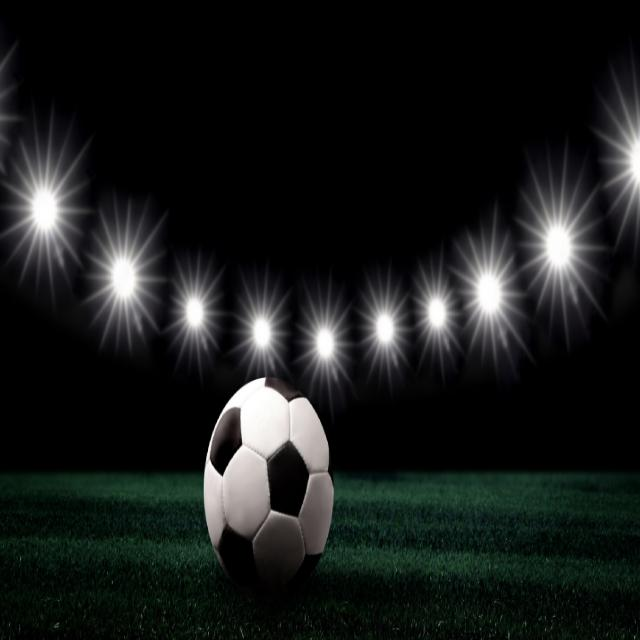football: (186, 346, 351, 602)
